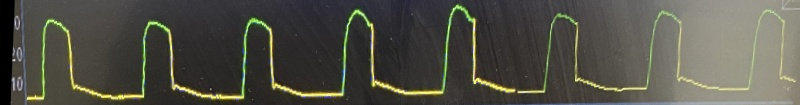normal_pressure: (35, 2, 790, 105)
